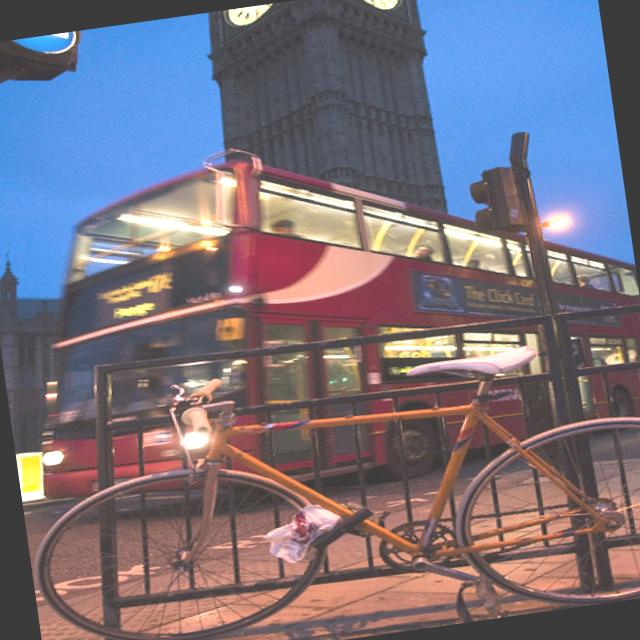Vehicle: (0, 111, 640, 526)
